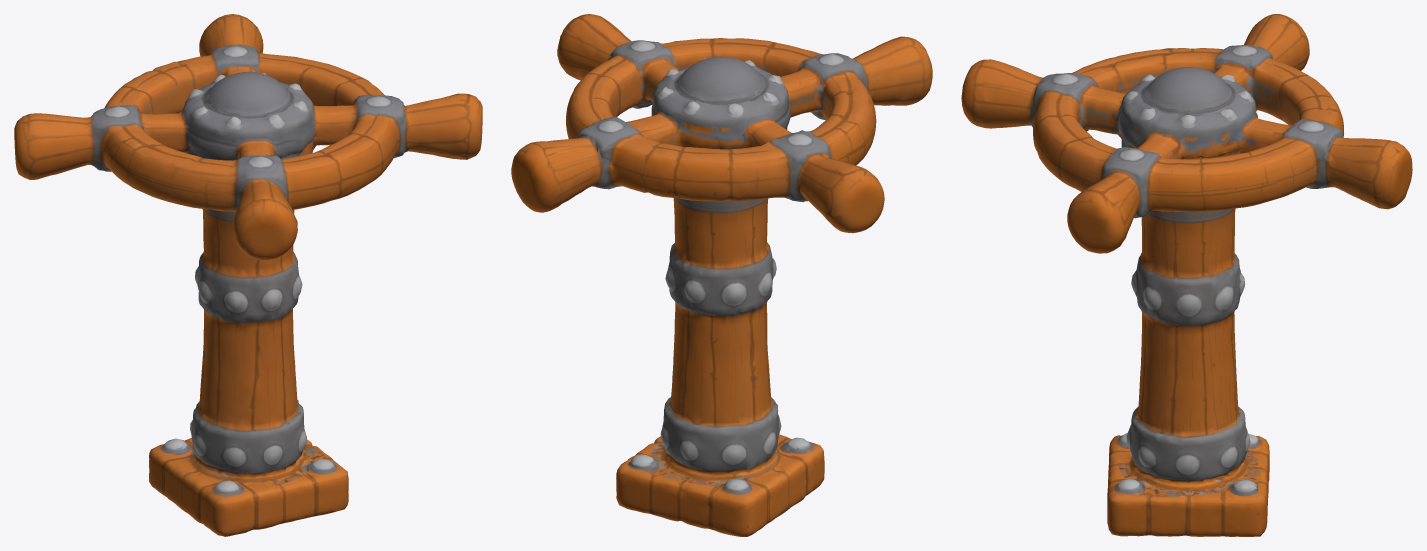
Rendered from FlightRaft_Steering.fbx.
3 renders of one model, left to right at view 1: azimuth 30°, elevation 25°; view 2: azimuth 150°, elevation 25°; view 3: azimuth 270°, elevation 25°, orthographic. The views are drawn at different scales.
Visible parts, largest first — view 1: texture_mapping; view 2: texture_mapping; view 3: texture_mapping.
Boxes of the visible parts, box(x1,y1,x2,y2) form: texture_mapping: box(14, 14, 482, 536); texture_mapping: box(511, 14, 932, 536); texture_mapping: box(961, 14, 1412, 536).
Bounding box in the file's own units: 0.9672 × 0.9434 × 1.
1 material, 1 textured.
